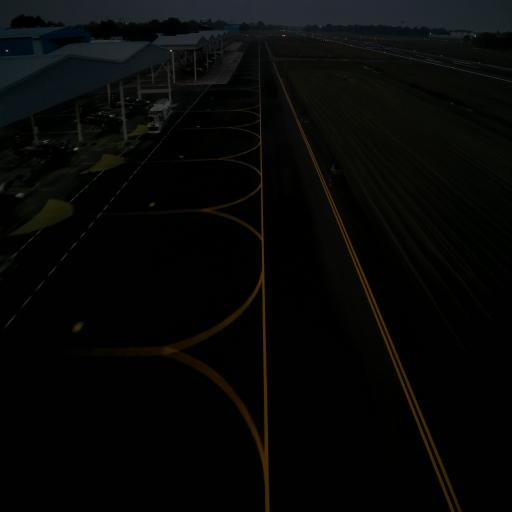on: (331, 162, 335, 170)
